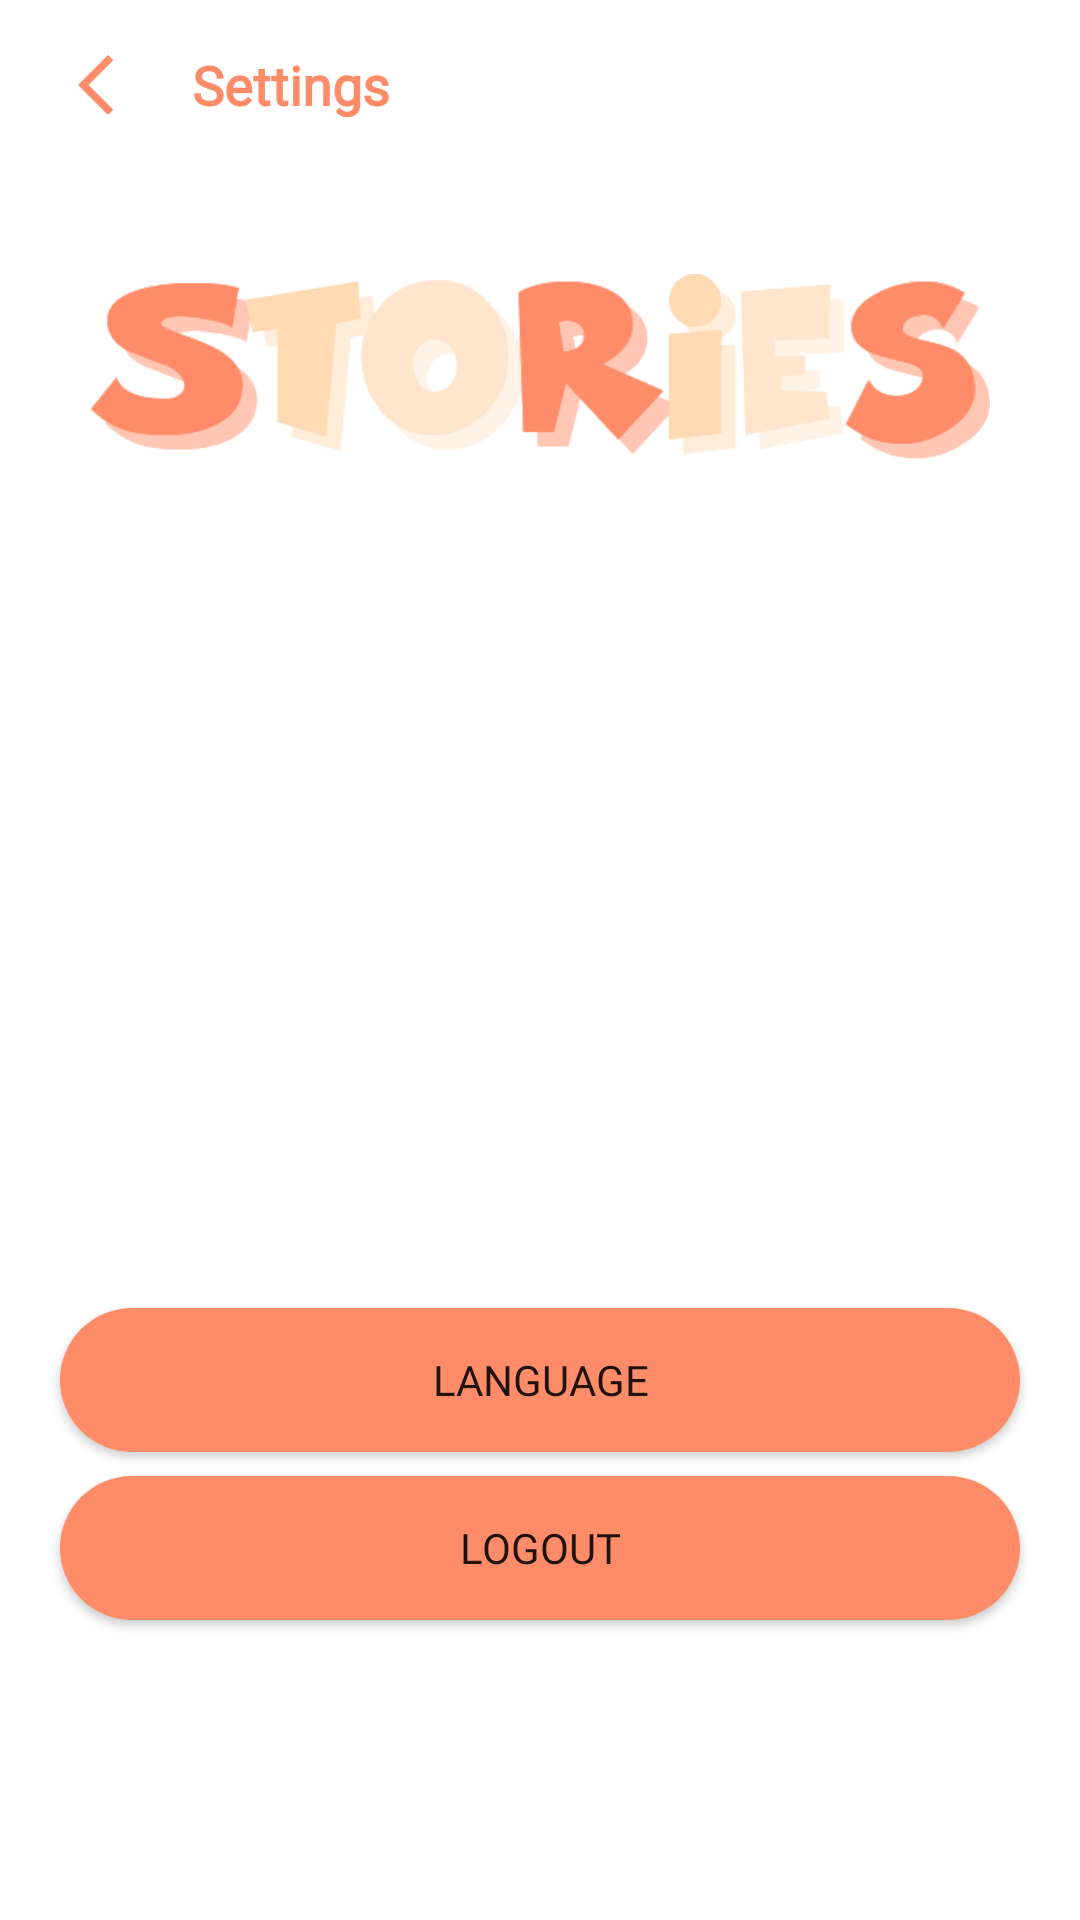

Locate icon controls on the screen. Image size 1080*1920, boxes as (x1, y1, x2, y2).
Back Button: (78, 55, 113, 115)
